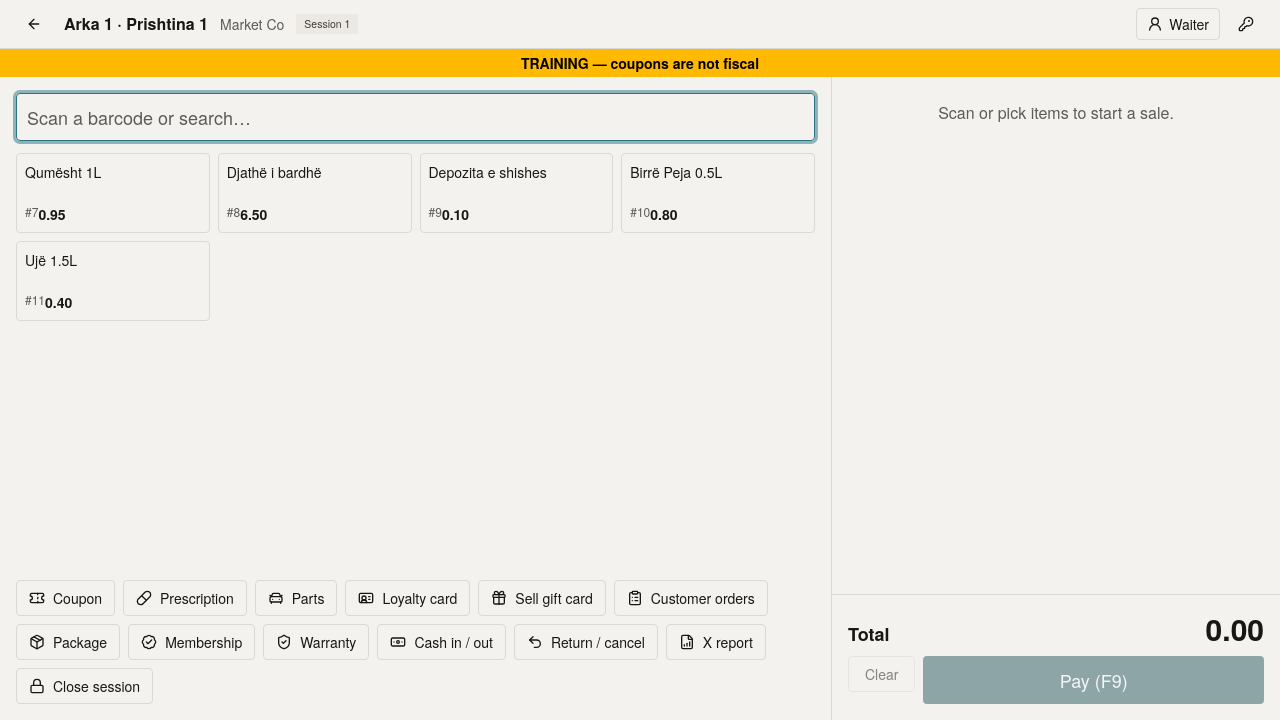
Test case: Till — grocery (P2) › keeps a deposit line after its item, following its quantity and removed with it
Type "3830050" into the field labelled "Scan a barcode or search…" at (416, 117), box top-left (16, 93), bottom-right (815, 141)
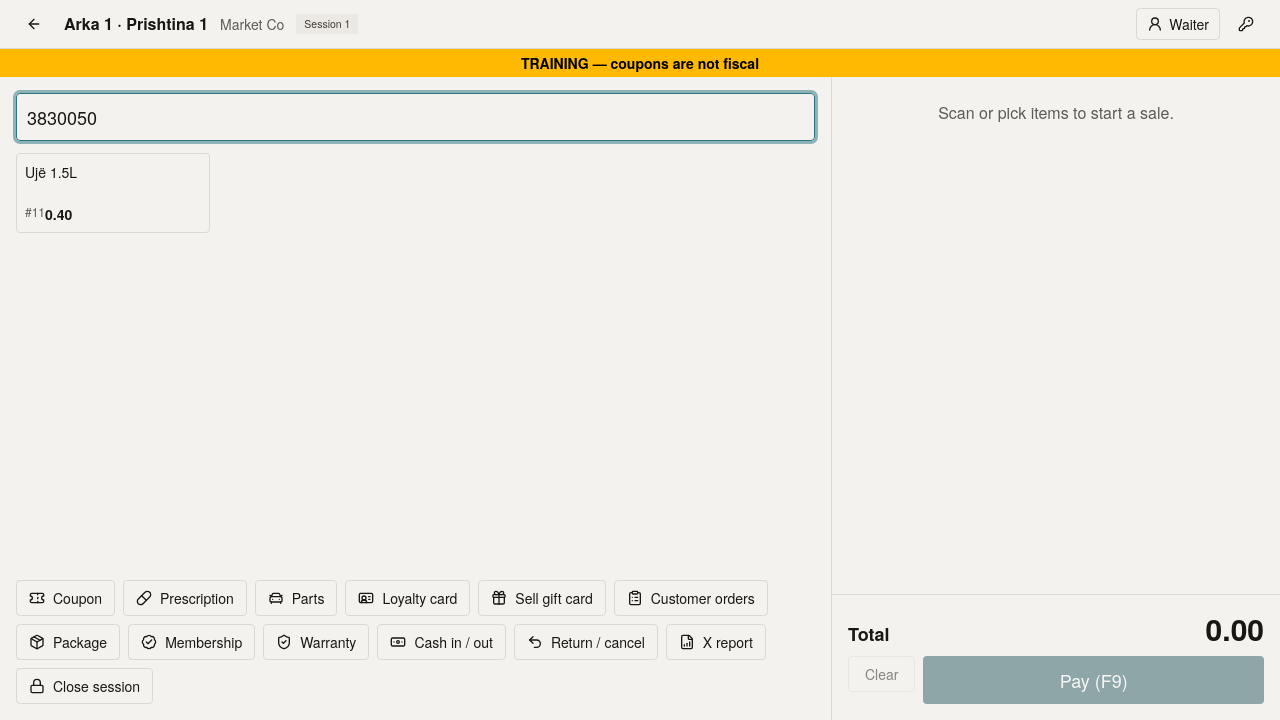
Press Enter in the field named "Scan a barcode or search…", box top-left (16, 93), bottom-right (815, 141)
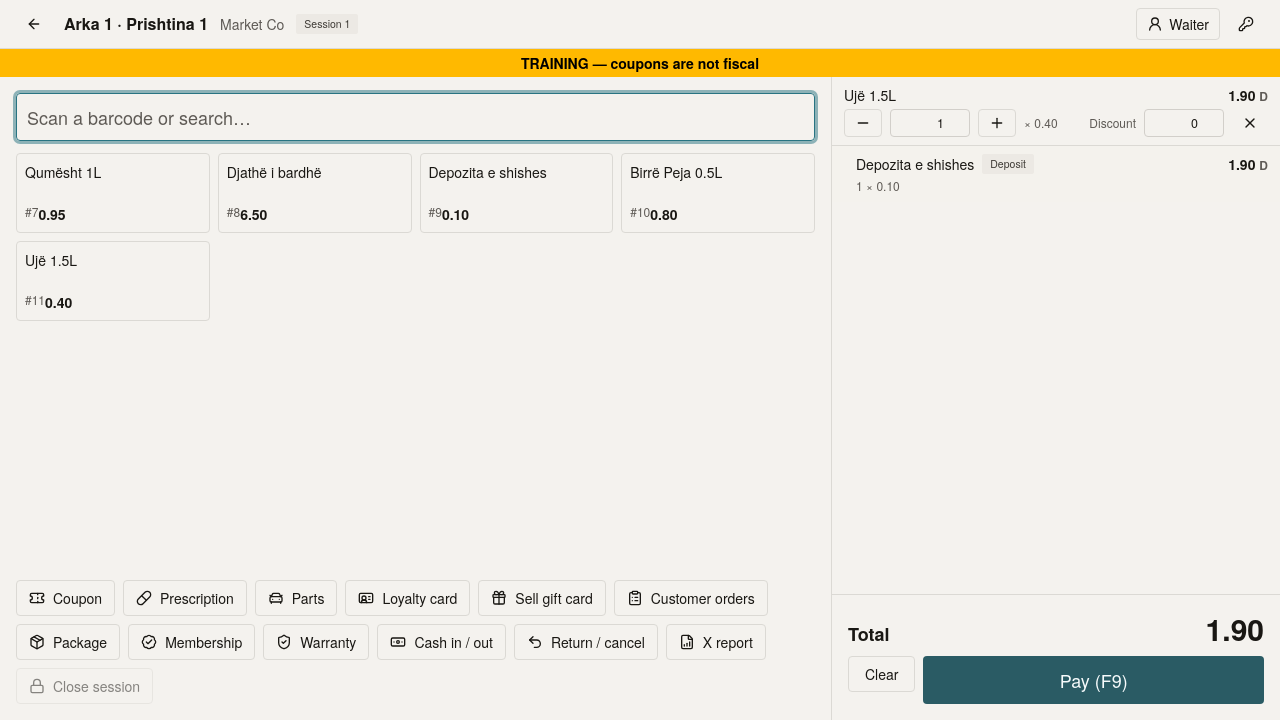
expect the list item with test id "deposit-line" shows "Depozita e shishes": met, box top-left (856, 154), bottom-right (974, 174)
Replace the text in the number field named "Qty" with "6" at (930, 123), box top-left (890, 109), bottom-right (970, 137)
Press Enter in the number field named "Qty", box top-left (890, 109), bottom-right (970, 137)
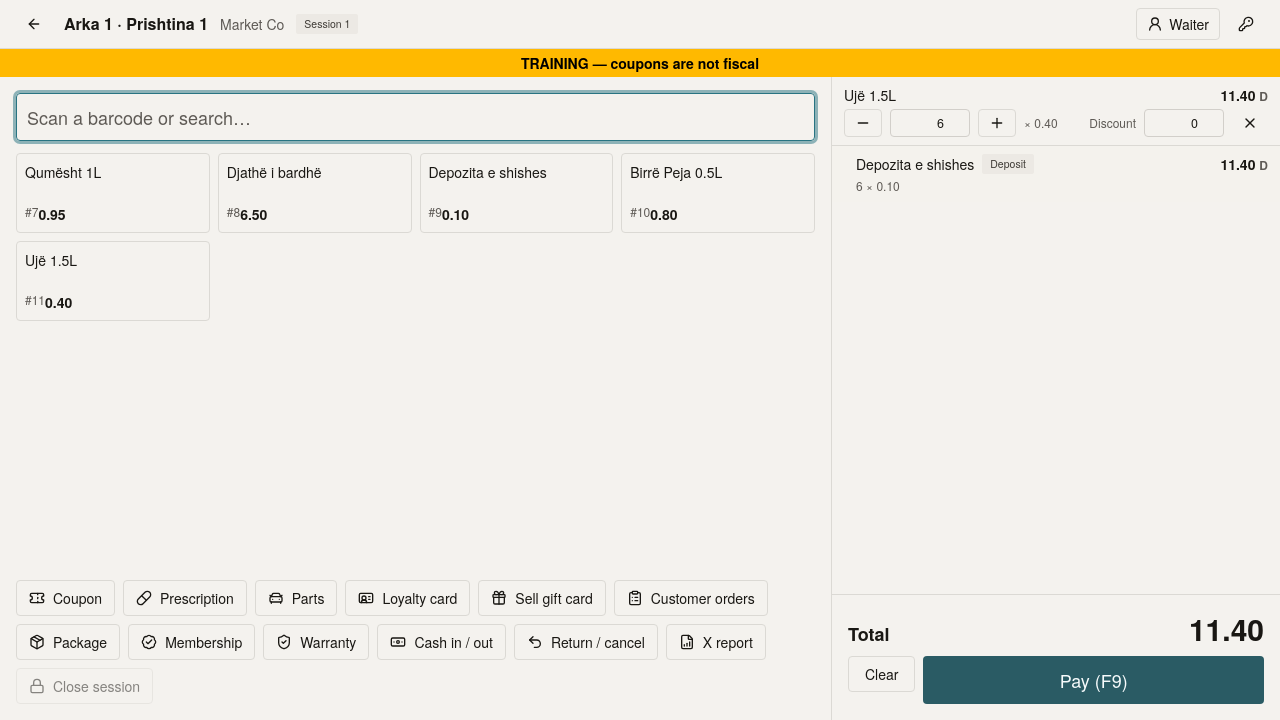
Type "3830001" into the field labelled "Scan a barcode or search…" at (416, 117), box top-left (16, 93), bottom-right (815, 141)
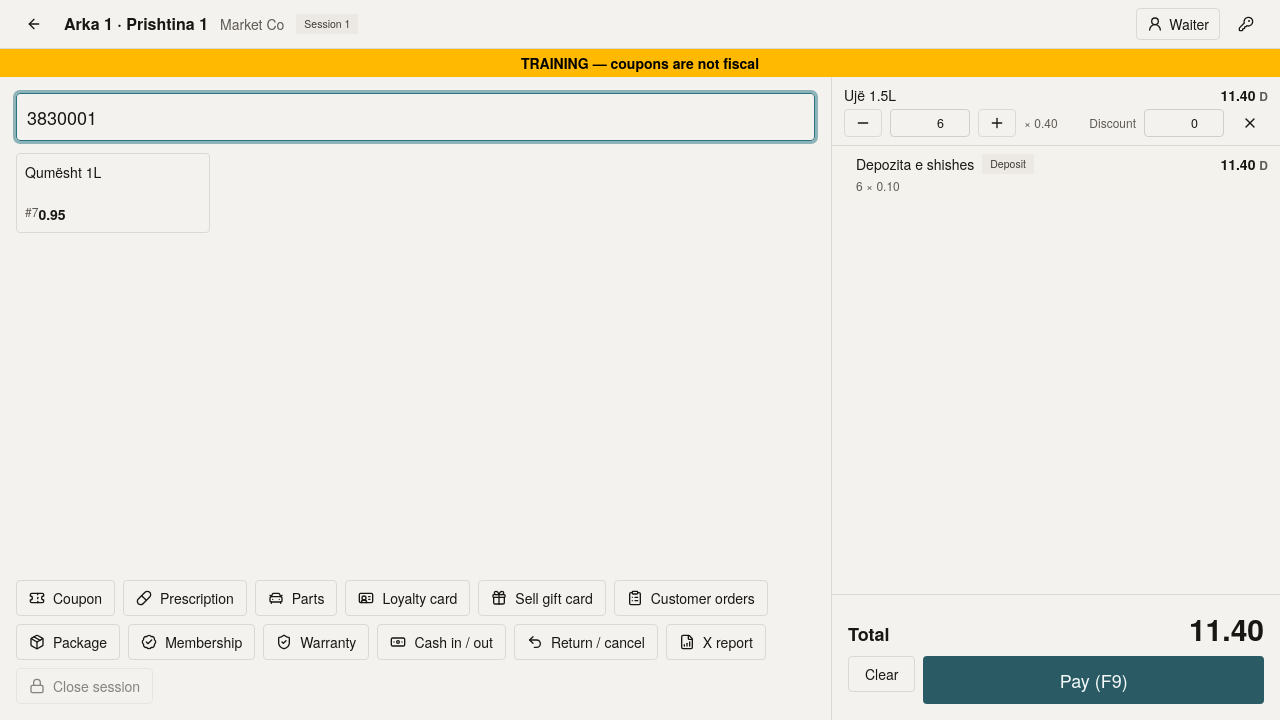
Press Enter in the field named "Scan a barcode or search…", box top-left (16, 93), bottom-right (815, 141)
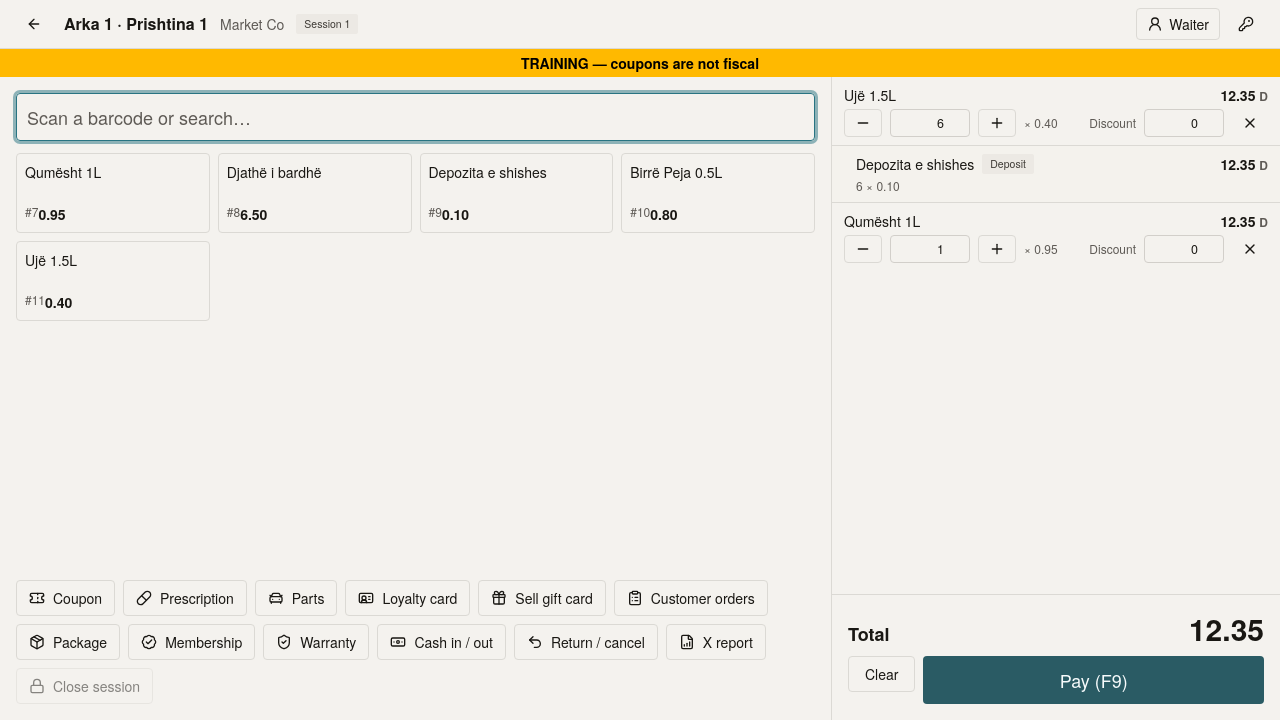
Click the 1st button named "Remove" at (1250, 123), box top-left (1232, 109), bottom-right (1268, 137)
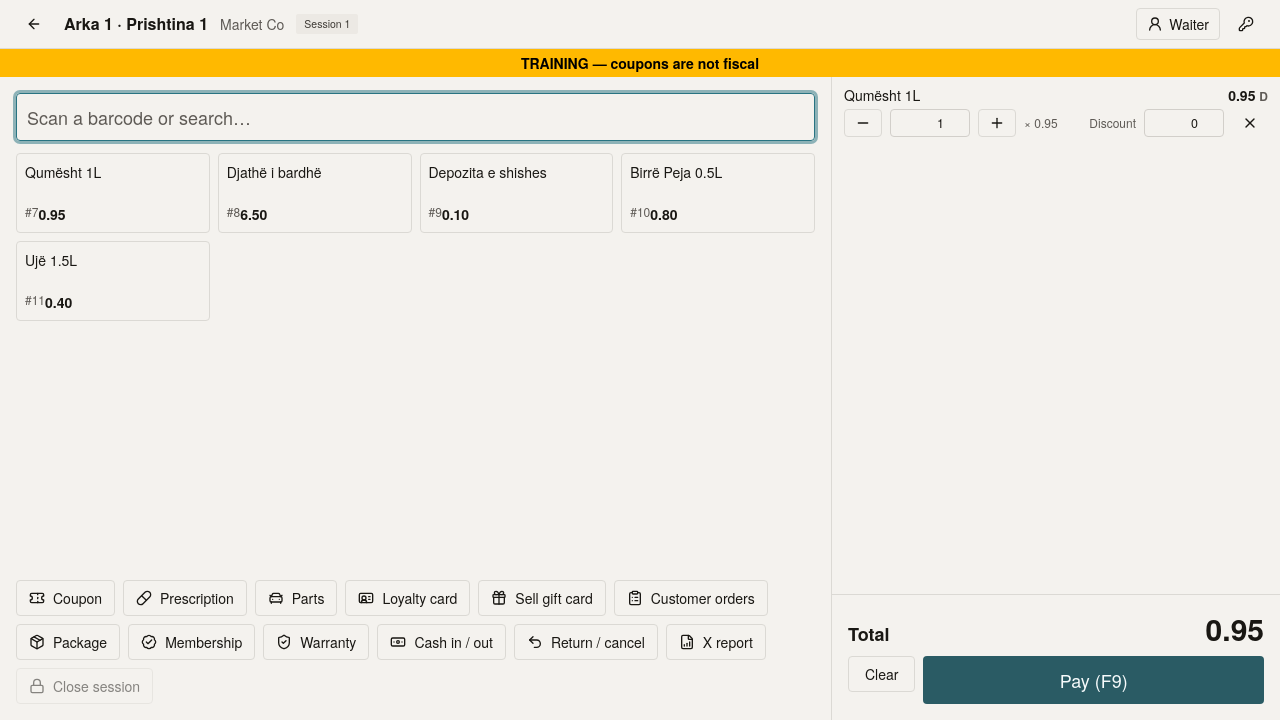
expect the list item with test id "deposit-line" is gone: met
